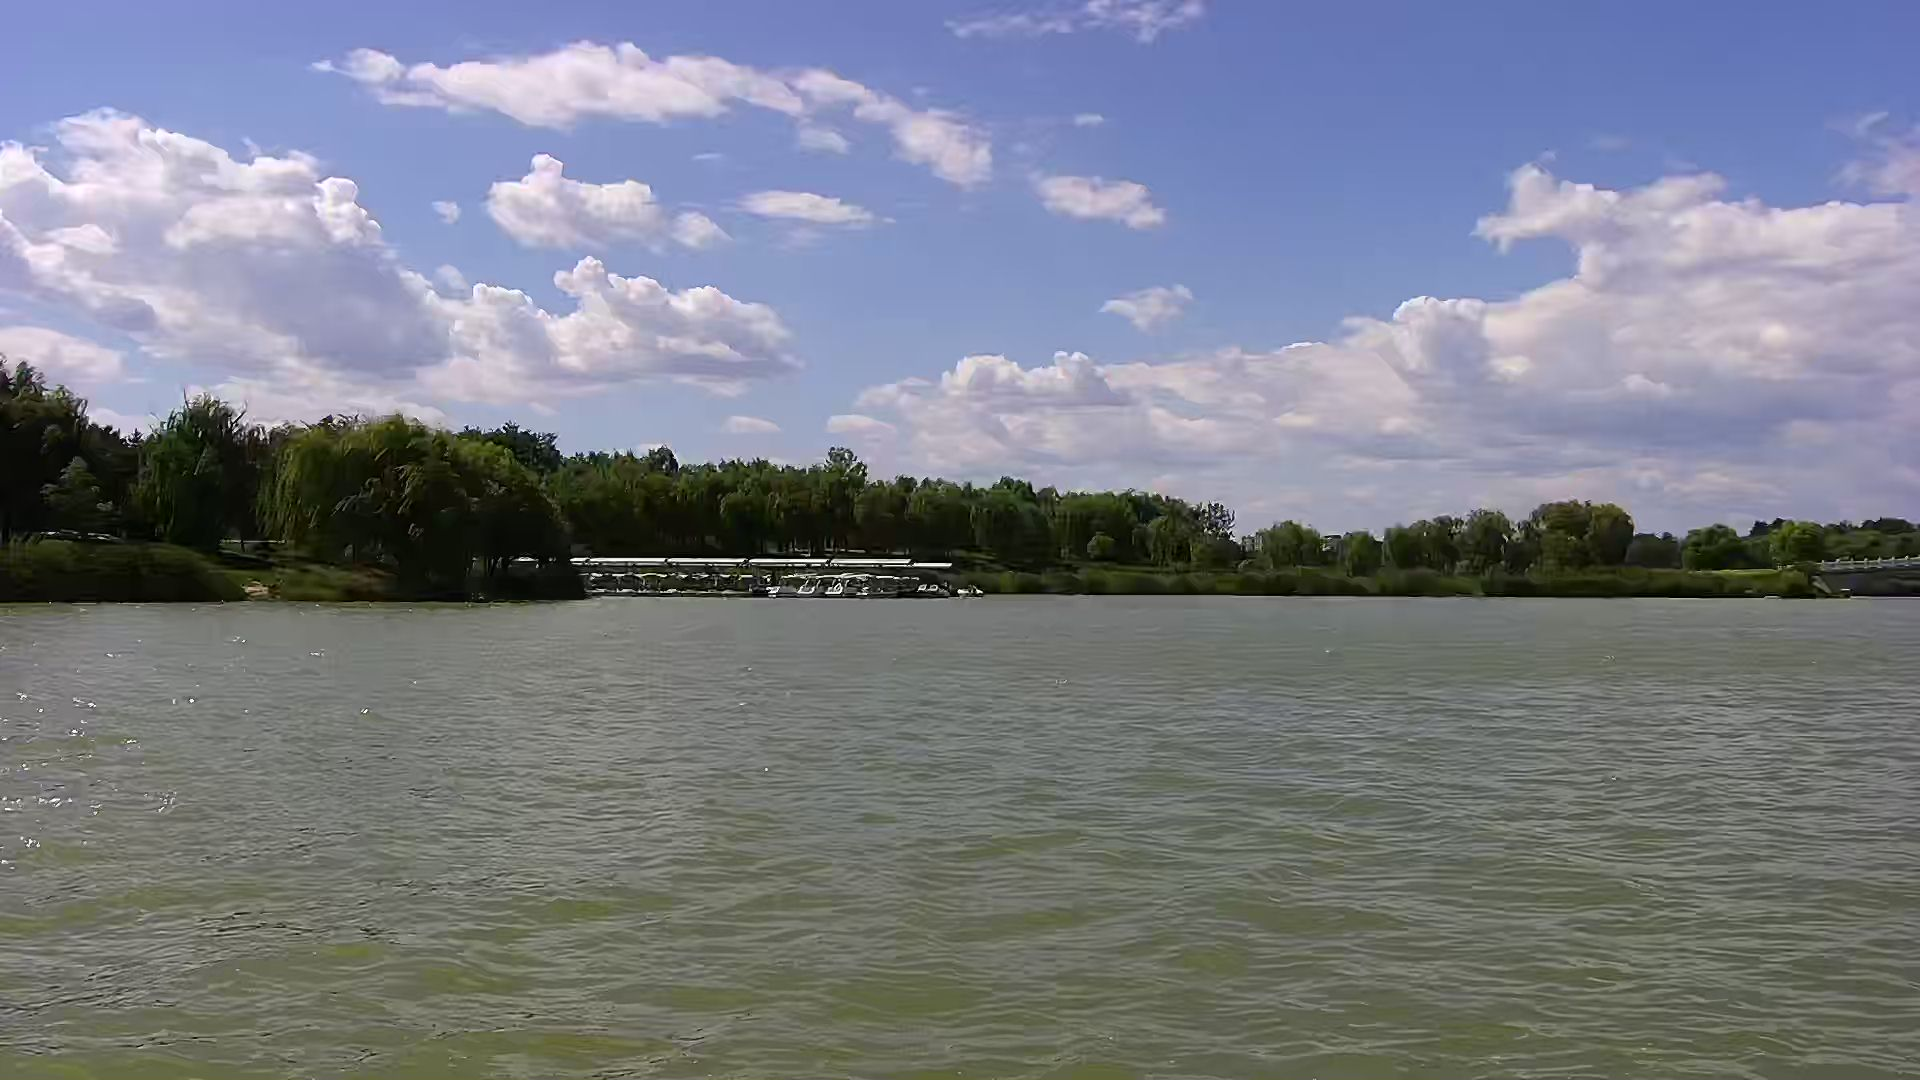harbor: (568, 558, 967, 601)
